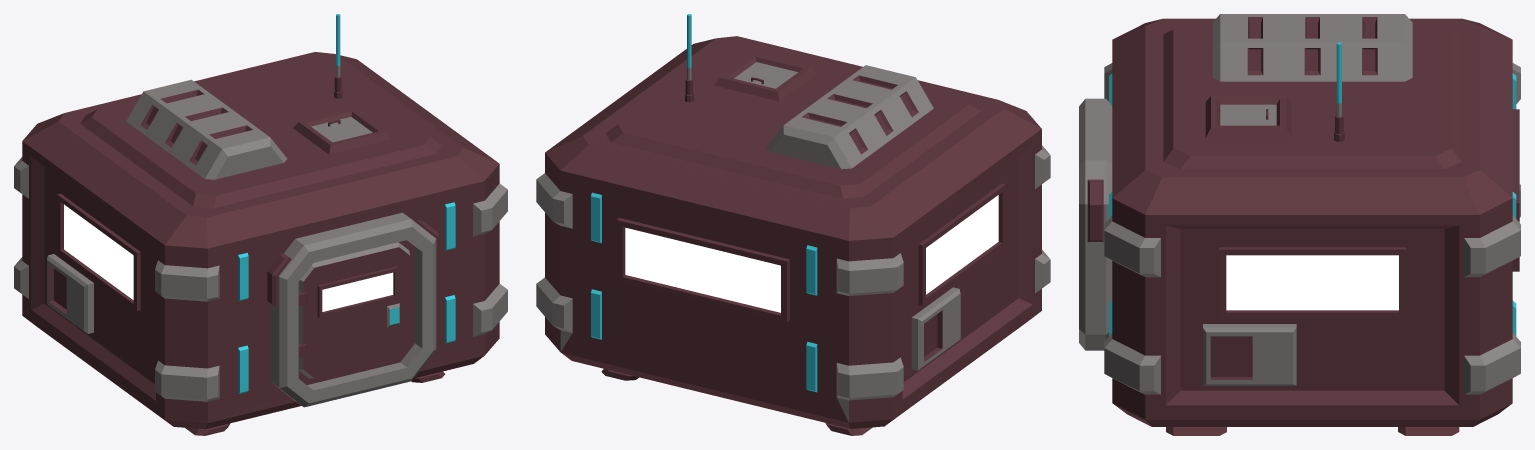
File: scifi-scifi-planet-base-room.glb
3 views of the same model, side by side, from view 1: azimuth 30°, elevation 25°; view 2: azimuth 150°, elevation 25°; view 3: azimuth 270°, elevation 25° (orthographic). The views are drawn at different scales.
Parts seen in each view (by area): view 1: scifi-planet-base-room; view 2: scifi-planet-base-room; view 3: scifi-planet-base-room.
Boxes of the visible parts, <box> form: scifi-planet-base-room: <box>14,14,507,435</box>; scifi-planet-base-room: <box>536,14,1050,435</box>; scifi-planet-base-room: <box>1079,14,1520,435</box>.
Bounding box in the file's own units: 7.04 × 6.14 × 6.62.
